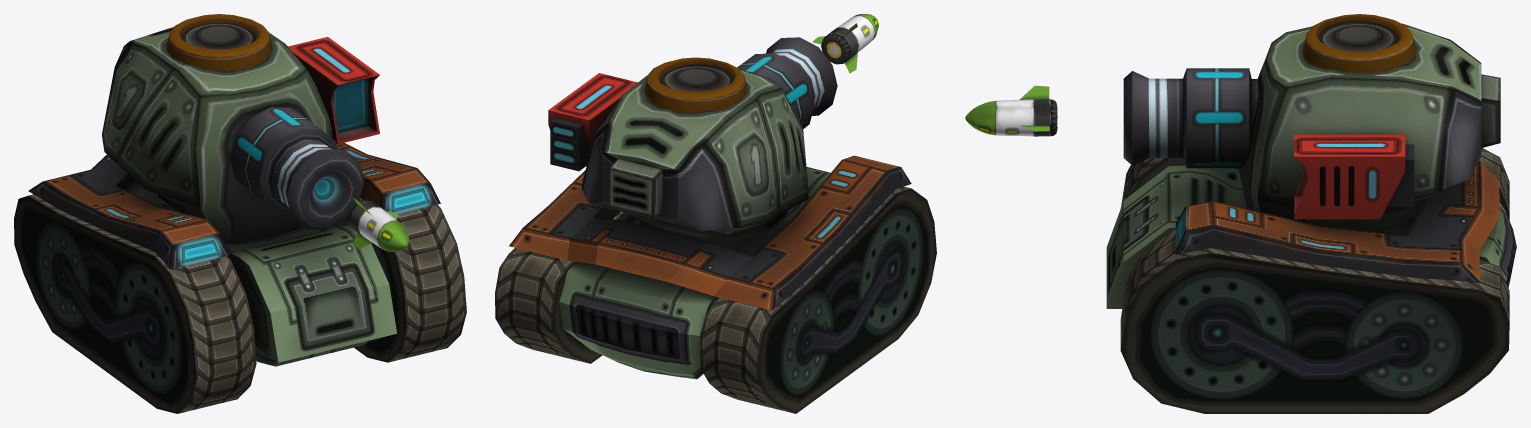
The model's file is tank2.FBX.
3 renders of one model, left to right at view 1: azimuth 30°, elevation 25°; view 2: azimuth 150°, elevation 25°; view 3: azimuth 270°, elevation 25°, orthographic. The views are drawn at different scales.
Visible parts, largest first — view 1: SciFi Ultra Tank 2, SciFi Ultra Tank 2_turret, SciFi Ultra Tank 2_turret001, SciFi Ultra Tank 2_bullet; view 2: SciFi Ultra Tank 2, SciFi Ultra Tank 2_turret, SciFi Ultra Tank 2_turret001, SciFi Ultra Tank 2_bullet; view 3: SciFi Ultra Tank 2, SciFi Ultra Tank 2_turret, SciFi Ultra Tank 2_turret001, SciFi Ultra Tank 2_bullet.
Boxes of the visible parts, left/top/right/bottom form: SciFi Ultra Tank 2: left=14, top=143, right=466, bottom=413; SciFi Ultra Tank 2_turret: left=102, top=14, right=379, bottom=243; SciFi Ultra Tank 2_turret001: left=230, top=107, right=364, bottom=230; SciFi Ultra Tank 2_bullet: left=349, top=197, right=409, bottom=251; SciFi Ultra Tank 2: left=495, top=155, right=936, bottom=413; SciFi Ultra Tank 2_turret: left=548, top=57, right=808, bottom=249; SciFi Ultra Tank 2_turret001: left=737, top=37, right=837, bottom=128; SciFi Ultra Tank 2_bullet: left=812, top=14, right=878, bottom=73; SciFi Ultra Tank 2: left=1106, top=148, right=1516, bottom=413; SciFi Ultra Tank 2_turret: left=1238, top=14, right=1500, bottom=232; SciFi Ultra Tank 2_turret001: left=1123, top=68, right=1258, bottom=168; SciFi Ultra Tank 2_bullet: left=965, top=85, right=1057, bottom=136.
Bounding box in the file's own units: 255 × 265 × 423.
